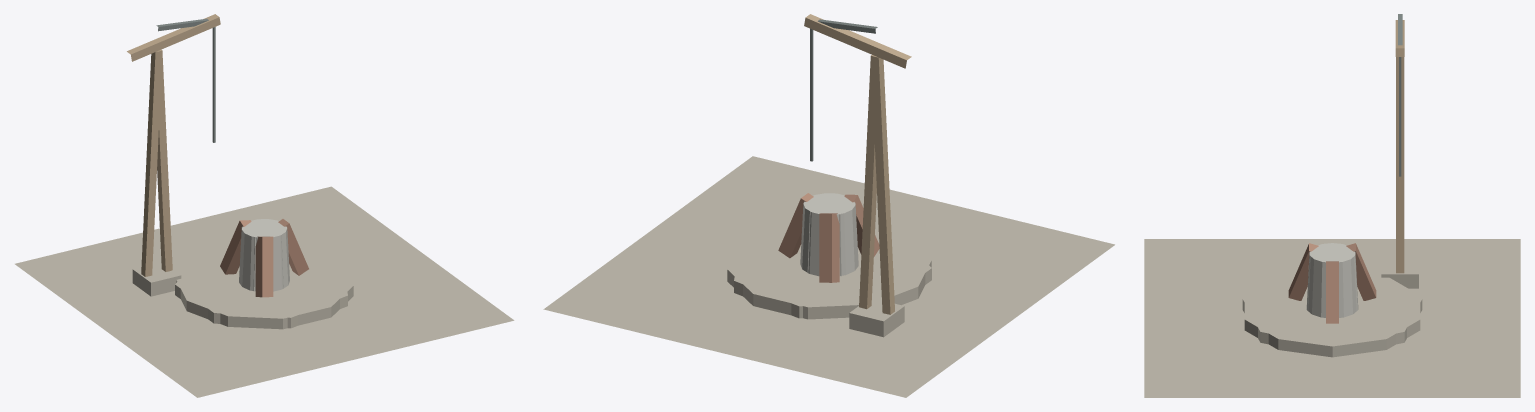
3 renders of one model, left to right at view 1: azimuth 30°, elevation 25°; view 2: azimuth 150°, elevation 25°; view 3: azimuth 270°, elevation 25°, orthographic. The views are drawn at different scales.
Visible parts, largest first — view 1: Near, Mid, Far; view 2: Near, Mid, Far; view 3: Near, Mid, Far.
Boxes of the visible parts, box(x1,y1,x2,y2) form: Near: box(15, 14, 514, 397); Mid: box(175, 219, 347, 328); Far: box(180, 219, 341, 315); Near: box(543, 14, 1114, 397); Mid: box(734, 193, 931, 318); Far: box(742, 197, 930, 303); Near: box(1144, 14, 1520, 397); Mid: box(1242, 244, 1422, 345); Far: box(1245, 245, 1419, 337).
Bounding box in the file's own units: 4 × 3.13 × 4.
